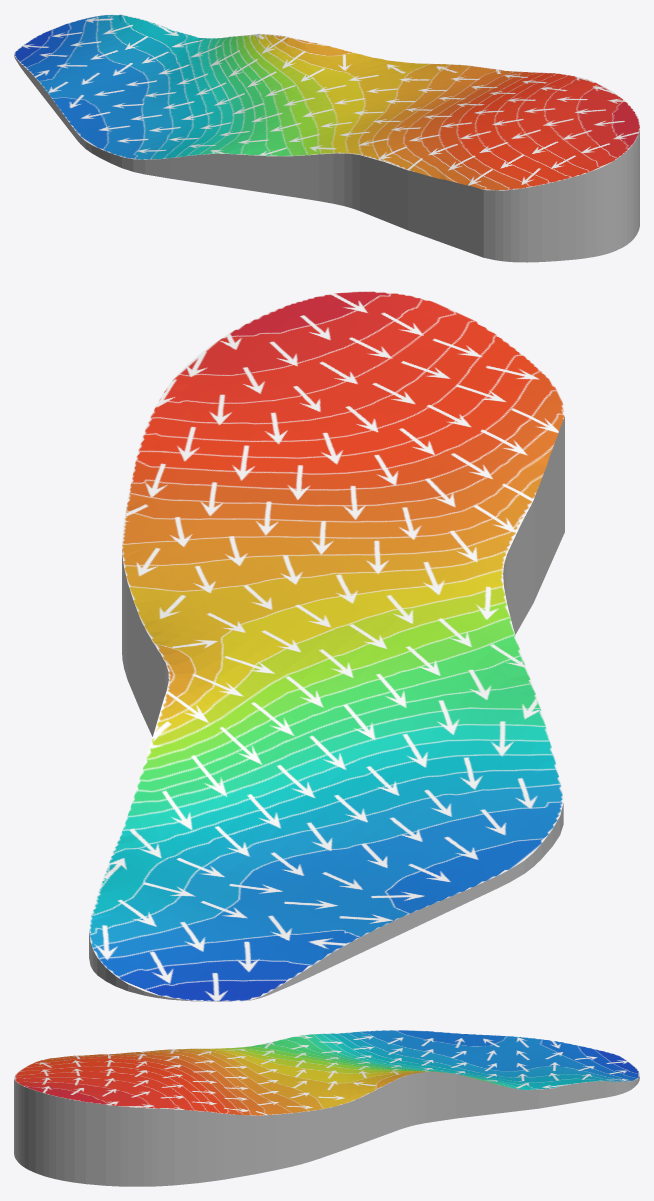
3 renders of one model, top to bottom at view 1: azimuth 30°, elevation 25°; view 2: azimuth 150°, elevation 25°; view 3: azimuth 270°, elevation 25°, orthographic. The views are drawn at different scales.
Bounding box in the file's own units: 5.57 × 1.44 × 9.84.
Materials: 2 (1 with a texture image).
